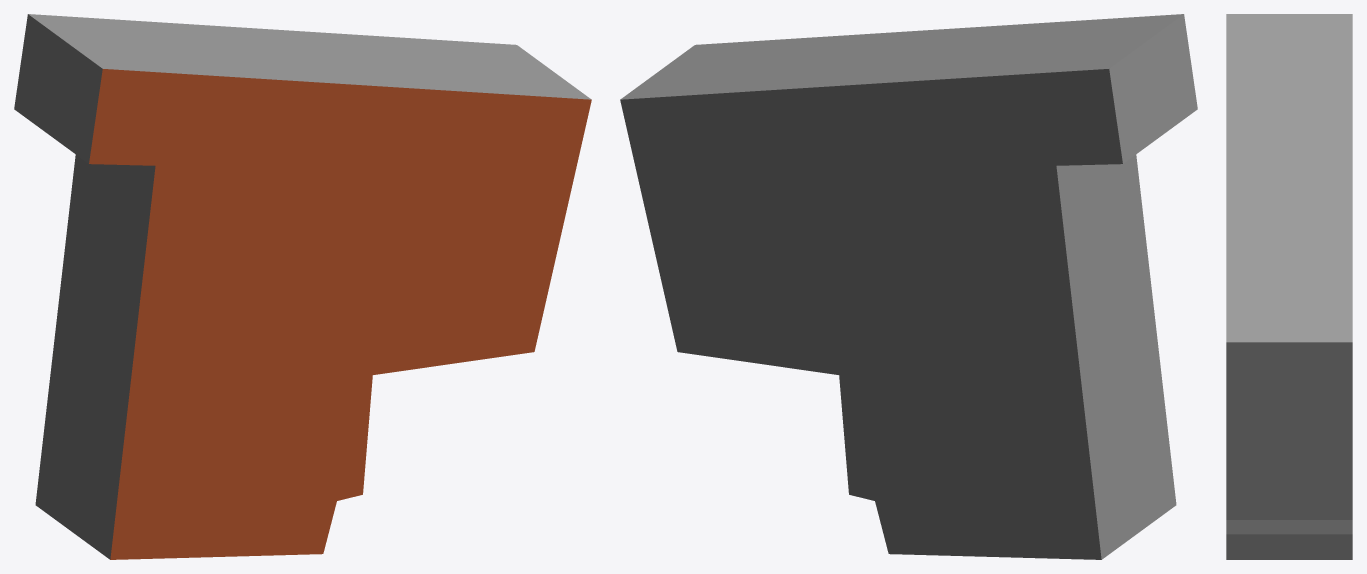
Rendered from construction_2621_assumed_A_Casa_h6m.obj.
The picture shows the model from 3 angles, left to right: view 1: azimuth 30°, elevation 25°; view 2: azimuth 150°, elevation 25°; view 3: azimuth 270°, elevation 25°; orthographic projection. The views are drawn at different scales.
Parts seen in each view (by area): view 1: construction_2621_assumed_A_Casa; view 2: construction_2621_assumed_A_Casa; view 3: construction_2621_assumed_A_Casa.
Part boxes in pixels (<box>): construction_2621_assumed_A_Casa: <box>14,14,591,559</box>; construction_2621_assumed_A_Casa: <box>620,14,1197,559</box>; construction_2621_assumed_A_Casa: <box>1226,14,1352,559</box>.
Size of the model in its own units: 23.26 by 23.83 by 6.
